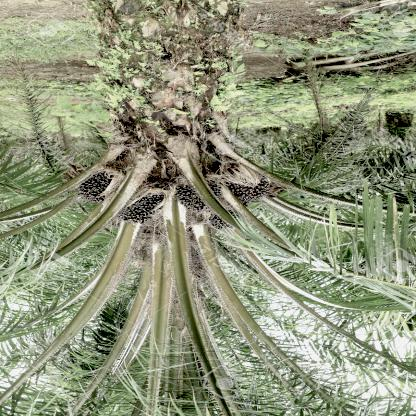palm-oil: (117, 185, 162, 226), (226, 175, 274, 206), (174, 182, 220, 213), (74, 170, 116, 203), (206, 208, 243, 232)
